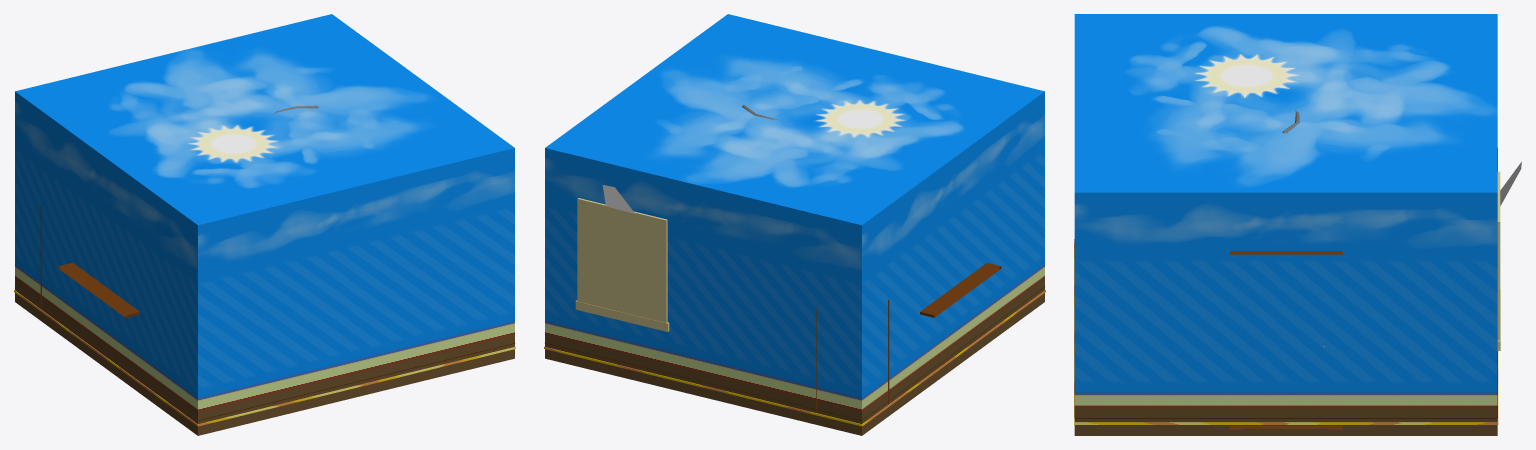
File: childrens_room_2.fbx
3 renders of one model, left to right at view 1: azimuth 30°, elevation 25°; view 2: azimuth 150°, elevation 25°; view 3: azimuth 270°, elevation 25°, orthographic. The views are drawn at different scales.
Parts seen in each view (by area): view 1: mesh_walls, mesh_floor, mesh_shelf_1, mesh_floor_corner; view 2: mesh_walls, mesh_window_main, mesh_floor, mesh_shelf_1, mesh_floor_corner, mesh_light_5; view 3: mesh_walls, mesh_floor, mesh_door_main, mesh_window_main, mesh_floor_corner.
Boxes of the visible parts, <box> form: mesh_walls: <box>15,14,514,435</box>; mesh_floor: <box>14,290,515,426</box>; mesh_shelf_1: <box>58,262,139,317</box>; mesh_floor_corner: <box>15,287,514,420</box>; mesh_walls: <box>545,14,1044,435</box>; mesh_window_main: <box>575,198,669,331</box>; mesh_floor: <box>544,290,1045,426</box>; mesh_shelf_1: <box>920,262,1001,317</box>; mesh_floor_corner: <box>545,287,1044,420</box>; mesh_light_5: <box>602,185,635,213</box>; mesh_walls: <box>1074,14,1497,435</box>; mesh_floor: <box>1074,243,1498,424</box>; mesh_door_main: <box>1229,251,1342,429</box>; mesh_window_main: <box>1497,171,1500,350</box>; mesh_floor_corner: <box>1074,239,1497,418</box>.
Size of the model in its own units: 181 by 109 by 180.
22 materials, 6 textured.
